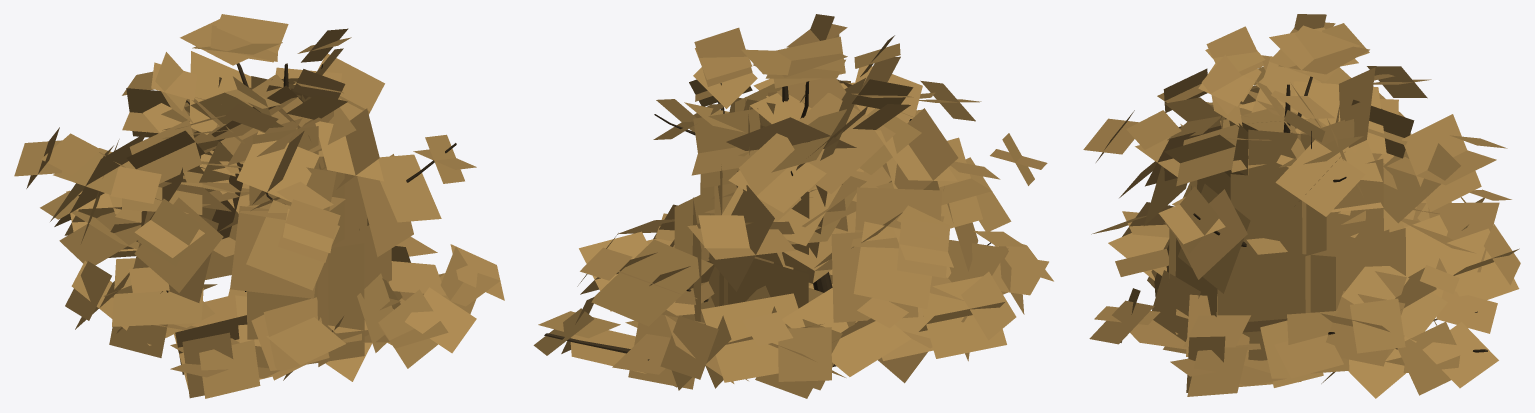
File: Bush 2 LOD 1.fbx
3 renders of one model, left to right at view 1: azimuth 30°, elevation 25°; view 2: azimuth 150°, elevation 25°; view 3: azimuth 270°, elevation 25°, orthographic. The views are drawn at different scales.
Parts seen in each view (by area): view 1: Bush_2_LOD_1; view 2: Bush_2_LOD_1; view 3: Bush_2_LOD_1.
Part boxes in pixels (x1,y1,x2,y2): Bush_2_LOD_1: (14,14,504,398); Bush_2_LOD_1: (533,14,1053,398); Bush_2_LOD_1: (1083,14,1520,398).
Size of the model in its own units: 5.55 by 4.1 by 5.39.
